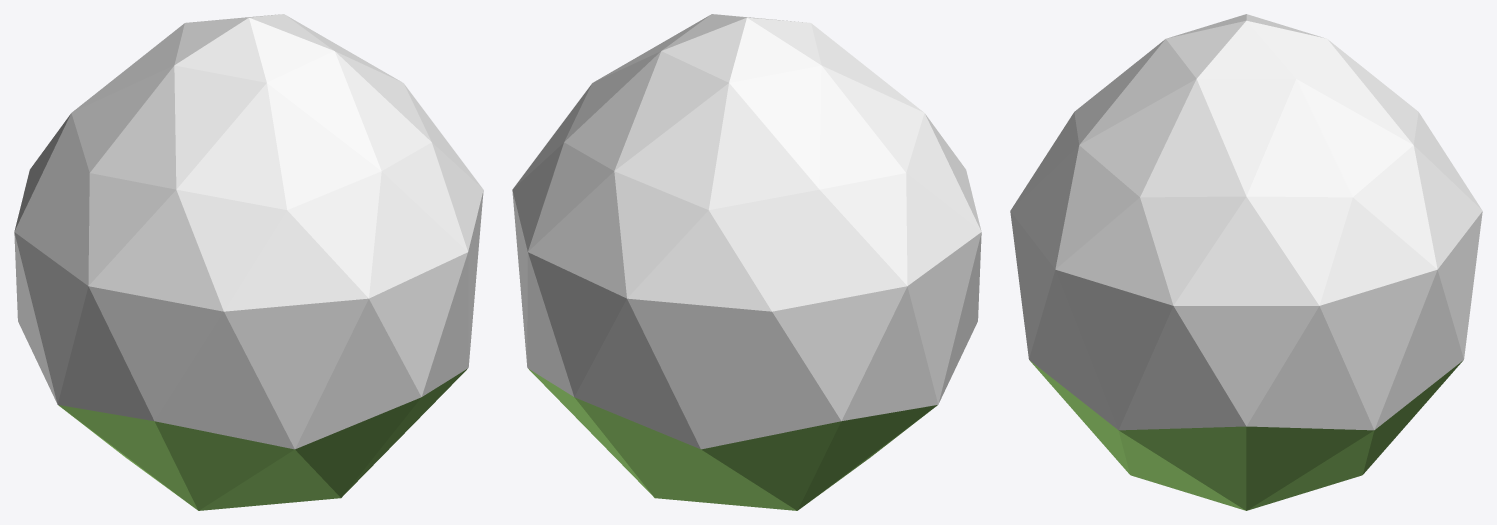
The model's file is Thuja_BushTree_s_Snow_05_LOD.fbx.
3 views of the same model, side by side, from view 1: azimuth 30°, elevation 25°; view 2: azimuth 150°, elevation 25°; view 3: azimuth 270°, elevation 25° (orthographic).
Parts seen in each view (by area): view 1: Thuja_BushTree_s_Snow_05_LOD0; view 2: Thuja_BushTree_s_Snow_05_LOD0; view 3: Thuja_BushTree_s_Snow_05_LOD0.
Boxes of the visible parts, x1,y1,x2,y2 form: Thuja_BushTree_s_Snow_05_LOD0: (14,14,483,510); Thuja_BushTree_s_Snow_05_LOD0: (512,14,981,510); Thuja_BushTree_s_Snow_05_LOD0: (1010,14,1482,510).
Size of what is drawn, in the model's own units: 171 by 185 by 178.
